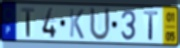3: (120, 8, 137, 42)
4: (41, 7, 58, 40)
K: (69, 8, 85, 41)
T: (143, 10, 160, 42), (20, 7, 36, 38)
U: (88, 6, 112, 43)
